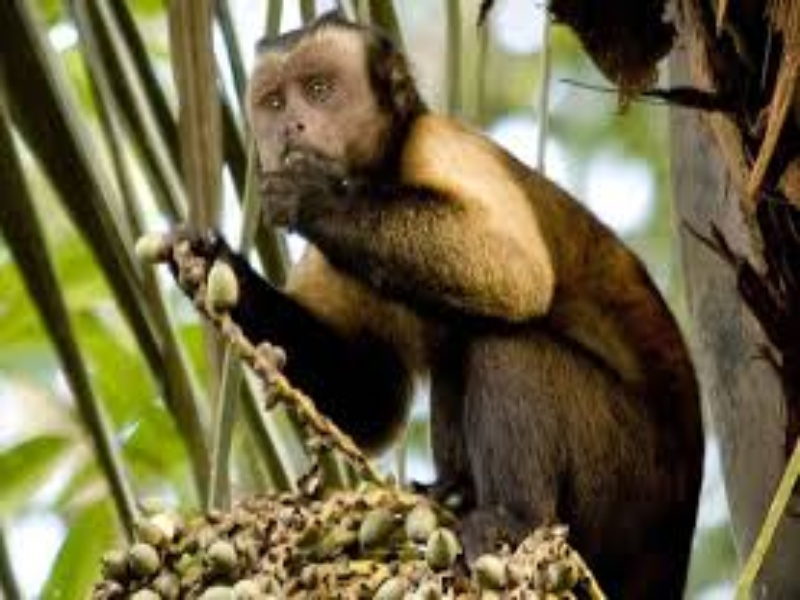monkey: (169, 1, 754, 586)
